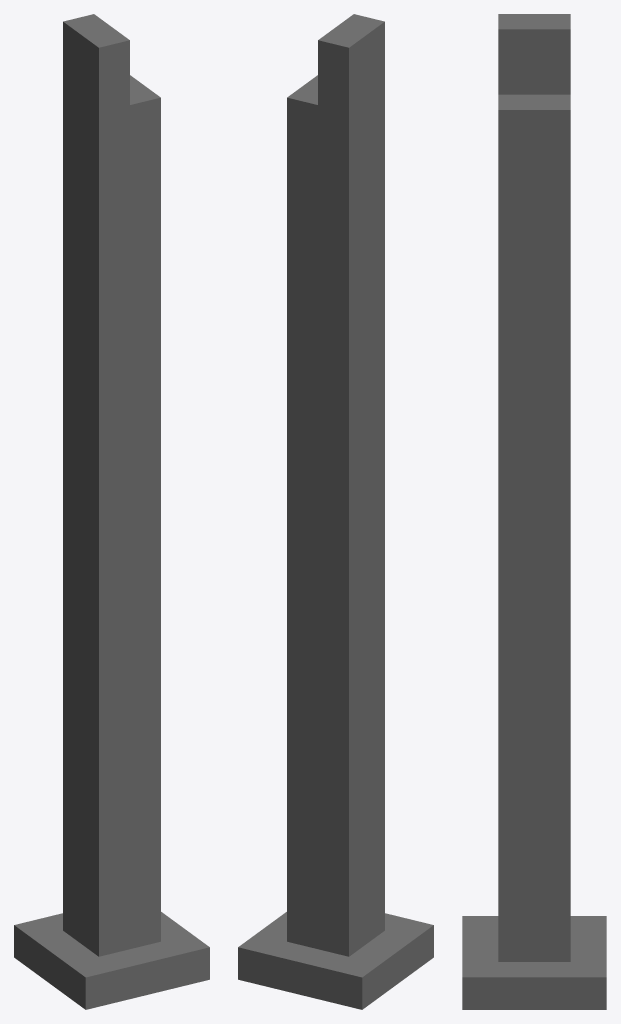
Rendered from light2_1.obj.
3 renders of one model, left to right at view 1: azimuth 30°, elevation 25°; view 2: azimuth 150°, elevation 25°; view 3: azimuth 270°, elevation 25°, orthographic.
Size of the model in its own units: 0.4 by 2.9 by 0.4.
Materials: 1 (1 with a texture image).
